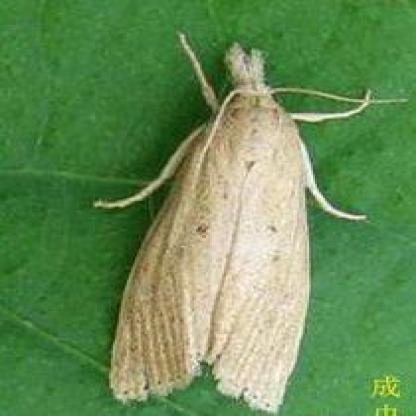stem-borer: (89, 31, 359, 415)
